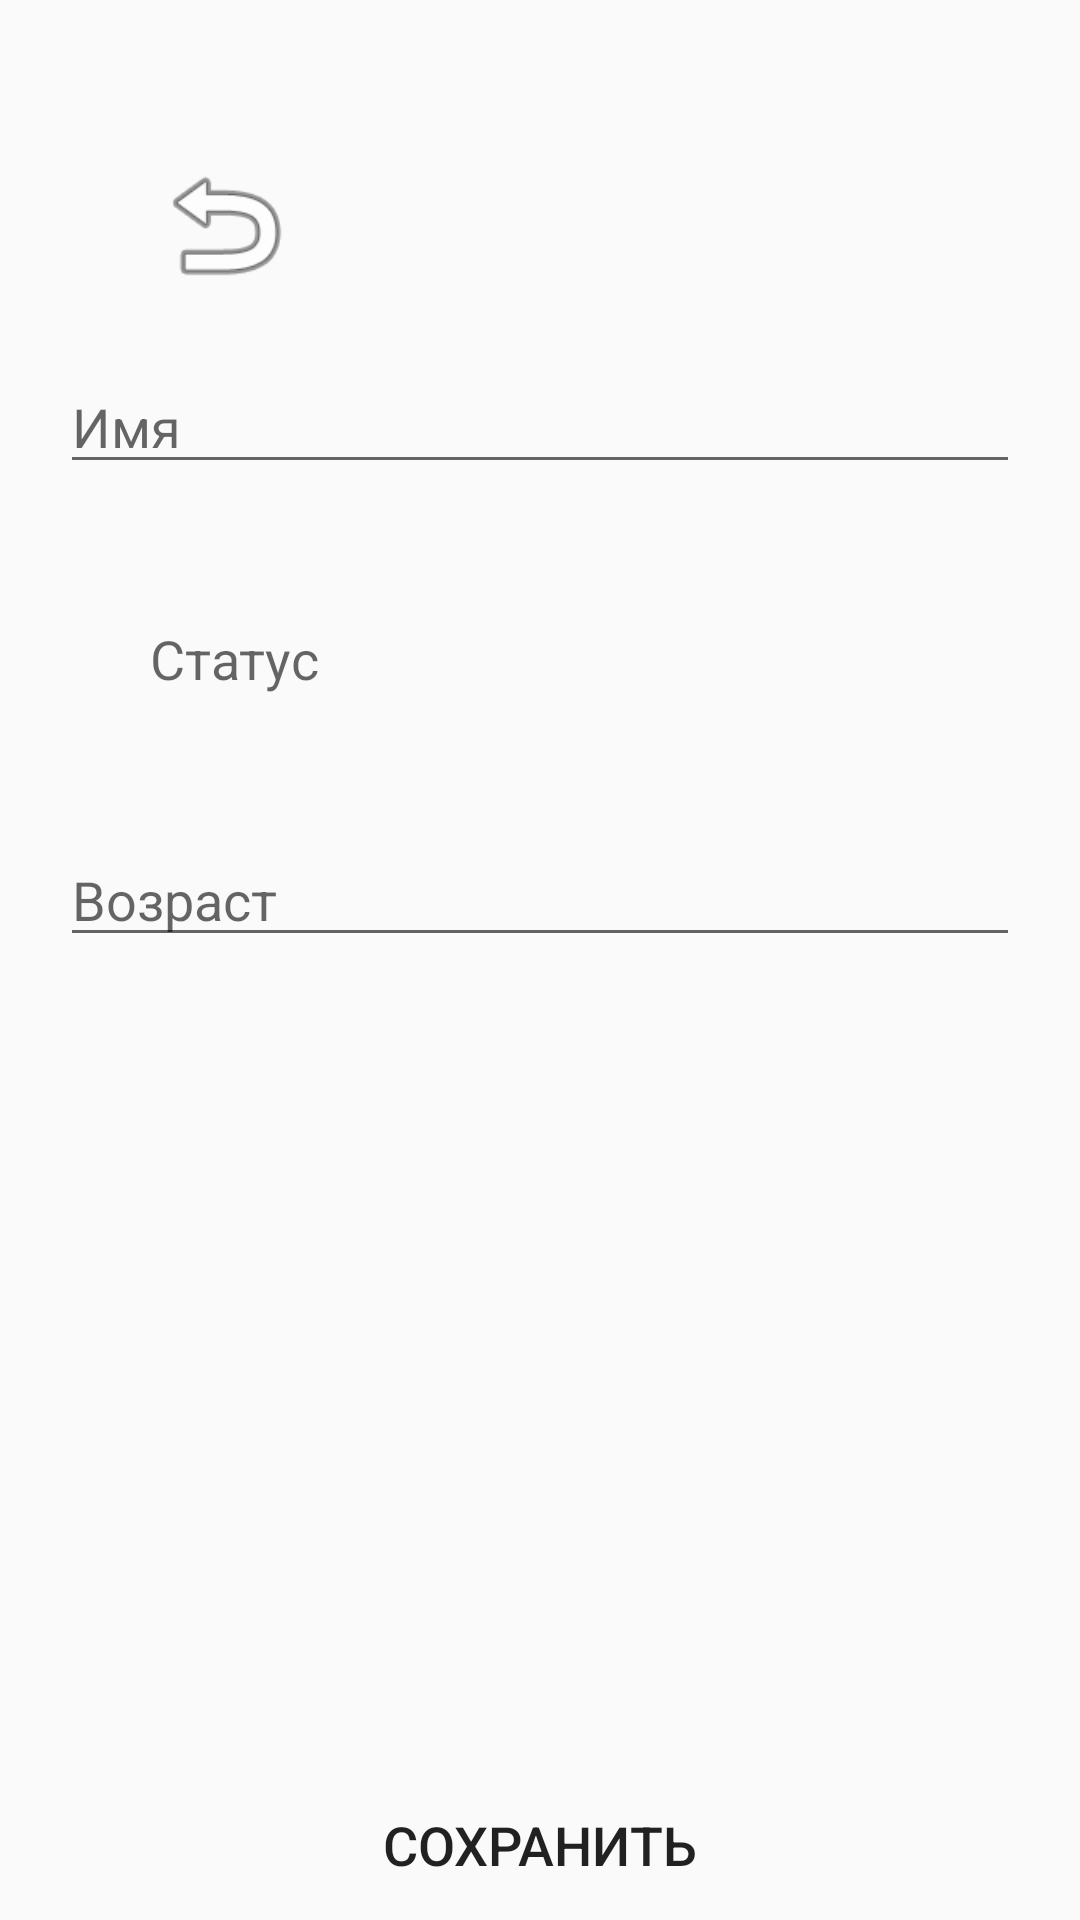

Locate icon controls on the screen. Image size 1080×1920, boxes as (x1=x1, y1=y1, x2=x2, y2=y2).
revert: (x1=173, y1=177, x2=281, y2=275)
